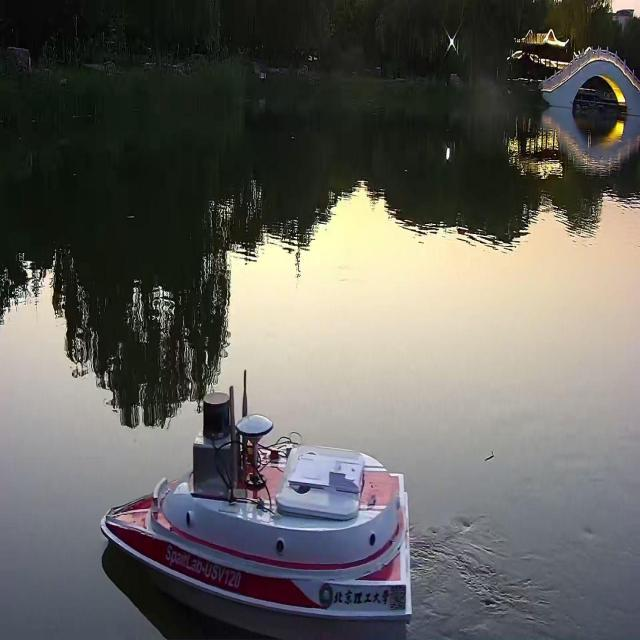CIV_Ship: (101, 366, 413, 640)
